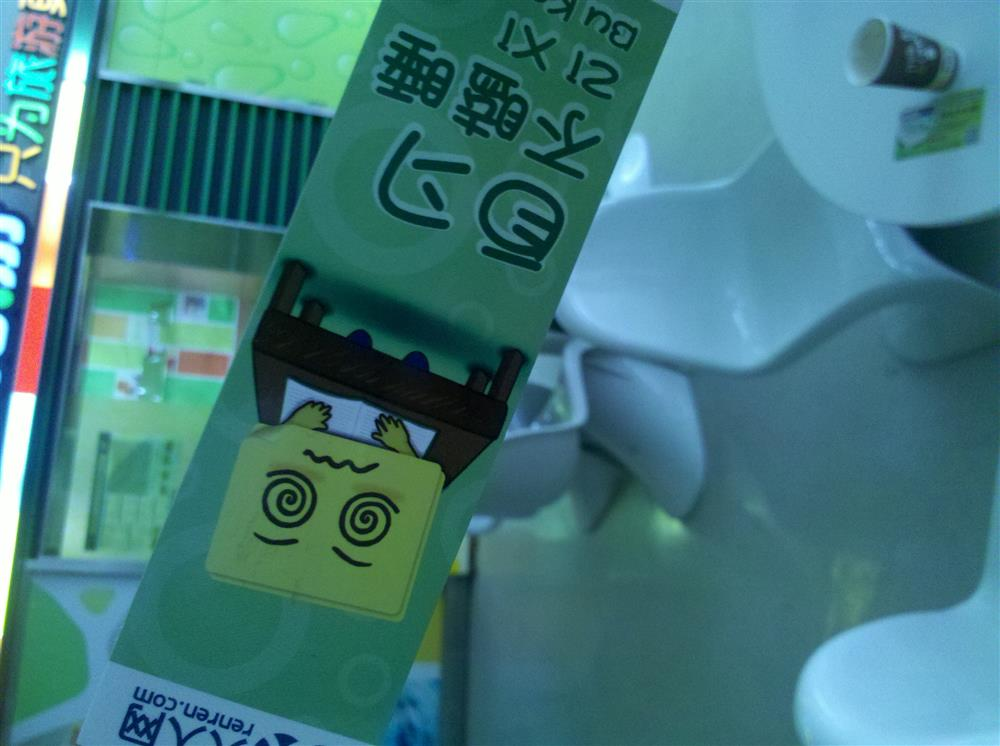Renren_bookmark: (78, 1, 686, 741)
